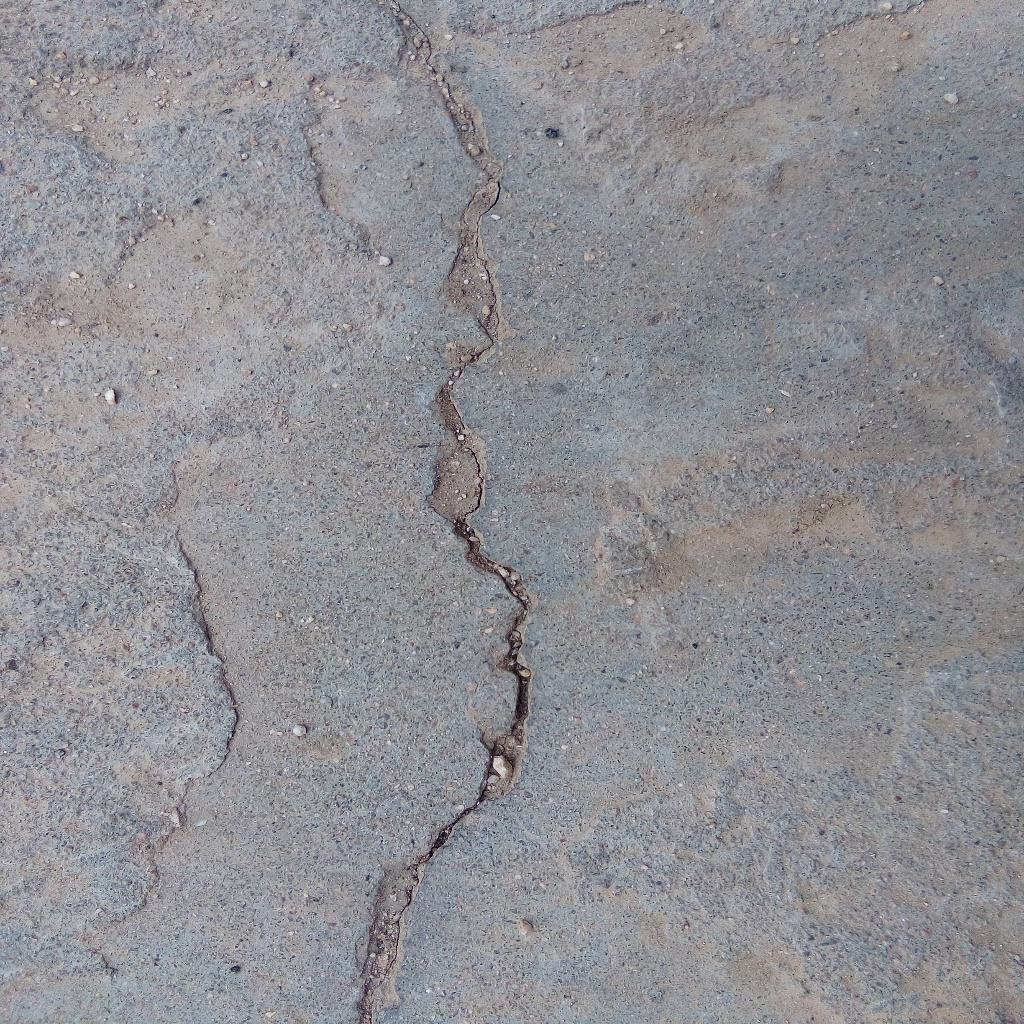Crack: (356, 1, 533, 1024)
